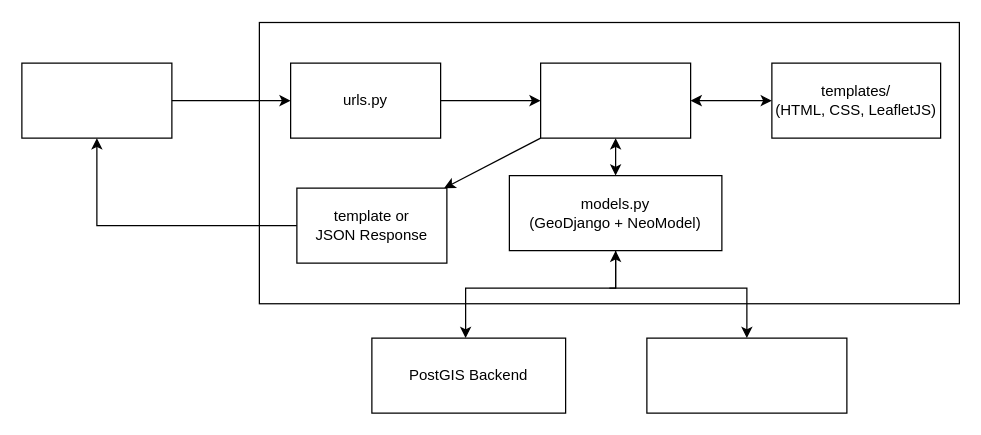
Some shapes in this 981 by 435 pixel diagram are drawn without their labels. Here are the shapes that lost their labels. From the top down, the centre of each, then its label:
At point (96, 100): "HTTP Request".
At point (615, 100): "views.py".
At point (746, 375): "Neo4j AuraDB Backend".
